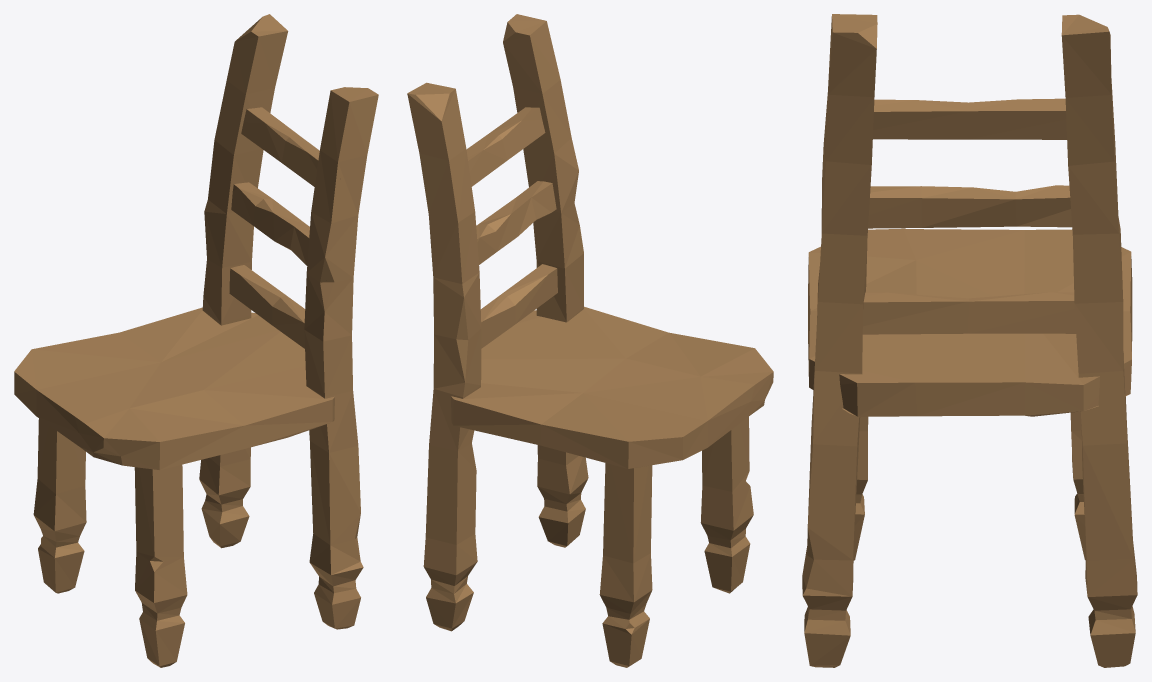
The model's file is SFI_Chair_001.fbx.
3 renders of one model, left to right at view 1: azimuth 30°, elevation 25°; view 2: azimuth 150°, elevation 25°; view 3: azimuth 270°, elevation 25°, orthographic. The views are drawn at different scales.
Visible parts, largest first — view 1: SFI_Chair_001; view 2: SFI_Chair_001; view 3: SFI_Chair_001.
Part boxes in pixels (x1,y1,x2,y2): SFI_Chair_001: (14,14,378,667); SFI_Chair_001: (407,14,773,667); SFI_Chair_001: (802,14,1137,667).
Bounding box in the file's own units: 64.88 × 121 × 55.68.
